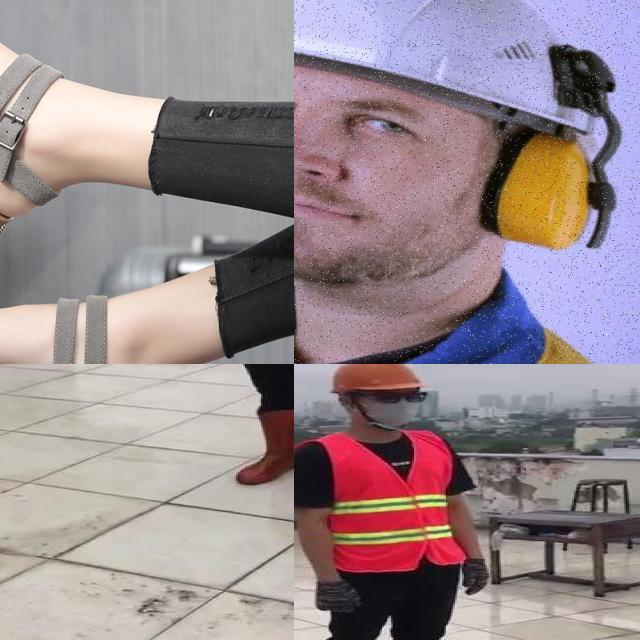Ear-protection: (474, 125, 602, 244)
No_Glasses: (326, 80, 432, 173), (294, 74, 314, 137)
Sandals: (0, 0, 170, 364)
boots: (234, 408, 294, 487)
face_mask: (357, 382, 428, 431)
glasses: (352, 383, 434, 408)
hand_glove: (307, 580, 368, 616), (457, 555, 492, 595)
head_helmet: (294, 0, 603, 88), (323, 364, 422, 397)
person: (294, 364, 494, 640)
vest: (300, 432, 468, 574)
